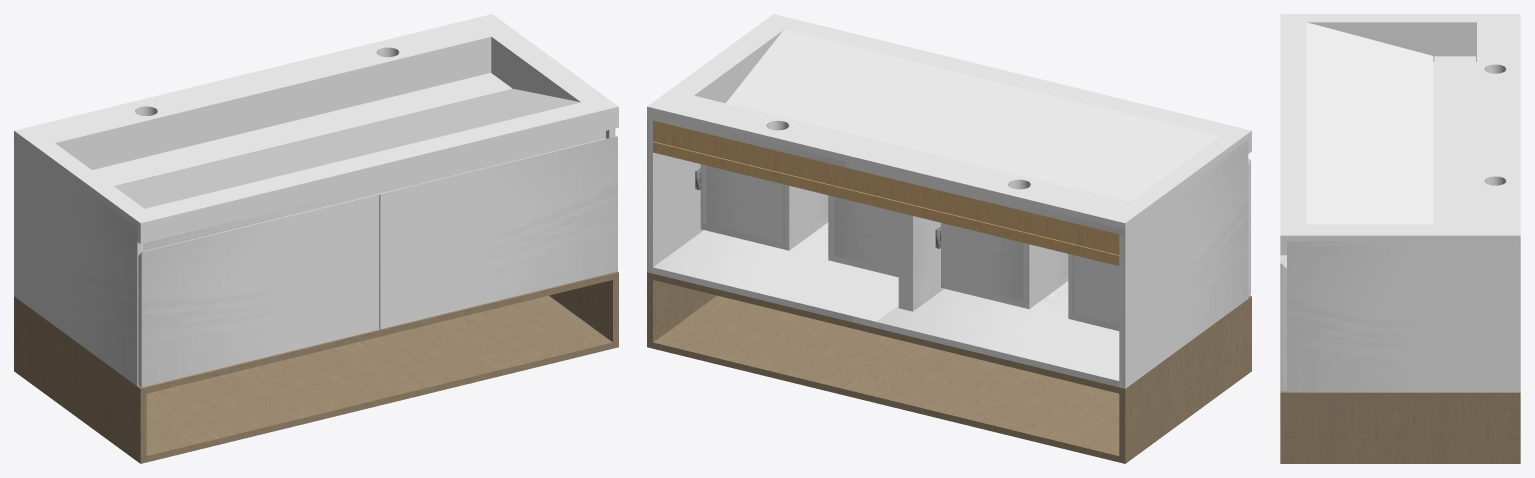
Rendered from 006_Tocador-Doble.glb.
3 renders of one model, left to right at view 1: azimuth 30°, elevation 25°; view 2: azimuth 150°, elevation 25°; view 3: azimuth 270°, elevation 25°, orthographic. The views are drawn at different scales.
Parts seen in each view (by area): view 1: root; view 2: root; view 3: root.
Part boxes in pixels (x1=…): root: x1=14, y1=14, x2=618, y2=463; root: x1=647, y1=14, x2=1251, y2=463; root: x1=1280, y1=14, x2=1520, y2=463.
Bounding box in the file's own units: 1.2 × 0.577 × 0.55.
6 materials, 5 textured.
